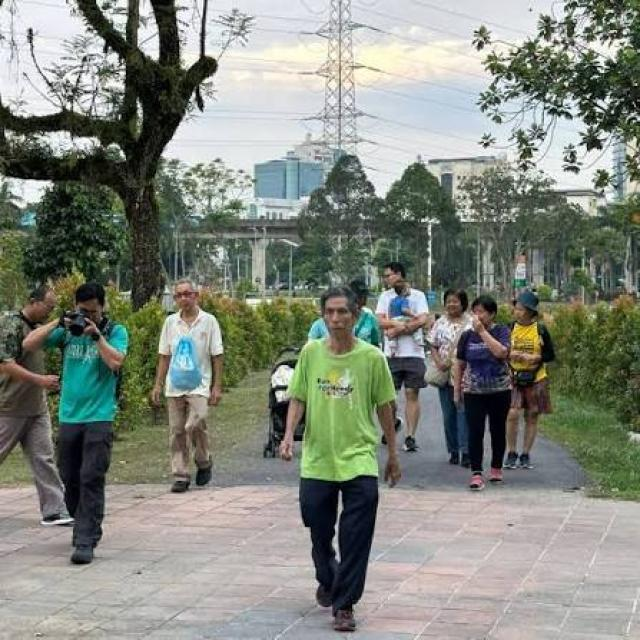Person: (277, 280, 398, 640), (148, 269, 242, 504), (61, 272, 132, 572), (372, 258, 432, 458), (500, 280, 559, 476), (420, 284, 474, 469), (463, 290, 508, 493)
